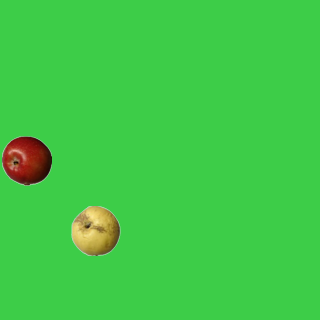Apple Braeburn: (1, 135, 51, 185)
Apple Golden 1: (70, 205, 120, 255)
